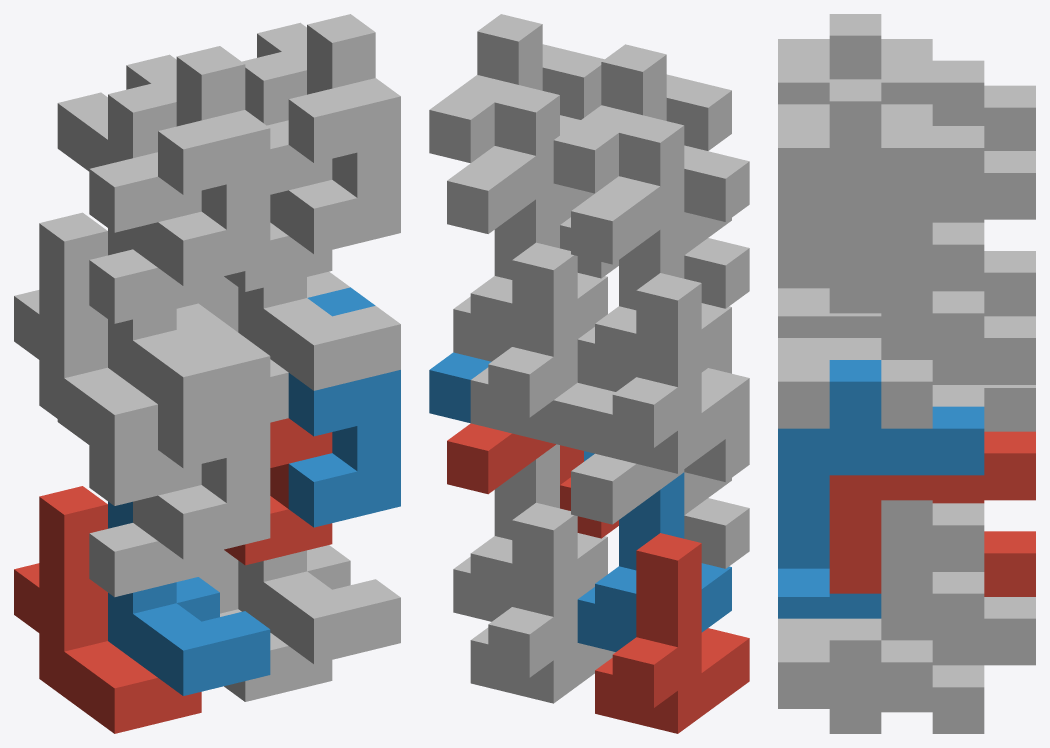
Rendered from tiling.obj.
3 views of the same model, side by side, from view 1: azimuth 30°, elevation 25°; view 2: azimuth 150°, elevation 25°; view 3: azimuth 270°, elevation 25° (orthographic). The views are drawn at different scales.
Visible parts, largest first — view 1: copy_2_domain_4, copy_2_domain_8, copy_1_domain_1, copy_2_domain_3, copy_1_domain_3, copy_2_domain_2, copy_2_domain_6, copy_1_domain_2, copy_1_domain_6, copy_1_domain_4, copy_1_domain_8, copy_2_domain_1 (+4 smaller); view 2: copy_2_domain_3, copy_1_domain_1, copy_1_domain_3, copy_1_domain_5, copy_1_domain_7, copy_2_domain_4, copy_2_domain_8, copy_2_domain_7, copy_2_domain_1, copy_1_domain_2, copy_1_domain_4, copy_1_domain_6 (+4 smaller); view 3: copy_2_domain_8, copy_1_domain_6, copy_1_domain_8, copy_2_domain_6, copy_1_domain_5, copy_2_domain_7, copy_2_domain_4, copy_2_domain_5, copy_1_domain_7, copy_2_domain_3, copy_1_domain_2, copy_1_domain_1 (+4 smaller).
Part boxes in pixels (<box>): copy_2_domain_4: <box>126,46,270,285</box>; copy_2_domain_8: <box>257,14,400,253</box>; copy_1_domain_1: <box>14,486,201,733</box>; copy_2_domain_3: <box>57,83,201,323</box>; copy_1_domain_3: <box>14,212,157,460</box>; copy_2_domain_2: <box>158,319,270,559</box>; copy_2_domain_6: <box>288,287,400,527</box>; copy_1_domain_2: <box>108,501,270,695</box>; copy_1_domain_6: <box>238,545,400,664</box>; copy_1_domain_4: <box>108,228,270,422</box>; copy_1_domain_8: <box>238,271,400,390</box>; copy_2_domain_1: <box>57,419,201,597</box>; copy_2_domain_3: <box>571,115,749,308</box>; copy_1_domain_1: <box>595,533,749,733</box>; copy_1_domain_3: <box>595,273,749,473</box>; copy_1_domain_5: <box>470,502,615,703</box>; copy_1_domain_7: <box>470,242,577,443</box>; copy_2_domain_4: <box>553,44,731,237</box>; copy_2_domain_8: <box>429,14,604,201</box>; copy_2_domain_7: <box>447,85,618,278</box>; copy_2_domain_1: <box>571,421,749,568</box>; copy_1_domain_2: <box>577,472,731,651</box>; copy_1_domain_4: <box>577,212,731,391</box>; copy_1_domain_6: <box>453,444,607,621</box>; copy_2_domain_8: <box>778,79,984,288</box>; copy_1_domain_6: <box>778,500,984,708</box>; copy_1_domain_8: <box>778,219,984,428</box>; copy_2_domain_6: <box>778,360,984,568</box>; copy_1_domain_5: <box>829,503,1035,733</box>; copy_2_domain_7: <box>829,104,1035,313</box>; copy_2_domain_4: <box>778,14,984,125</box>; copy_2_domain_5: <box>829,431,1035,593</box>; copy_1_domain_7: <box>932,222,1035,406</box>; copy_2_domain_3: <box>881,39,1035,150</box>; copy_1_domain_2: <box>778,568,881,618</box>; copy_1_domain_1: <box>932,500,1035,596</box>.
Size of the model in its own units: 6 by 14 by 5.
